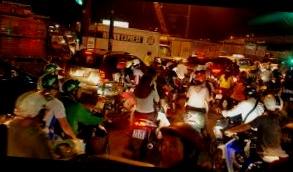Bien-so: (139, 137, 150, 148)
